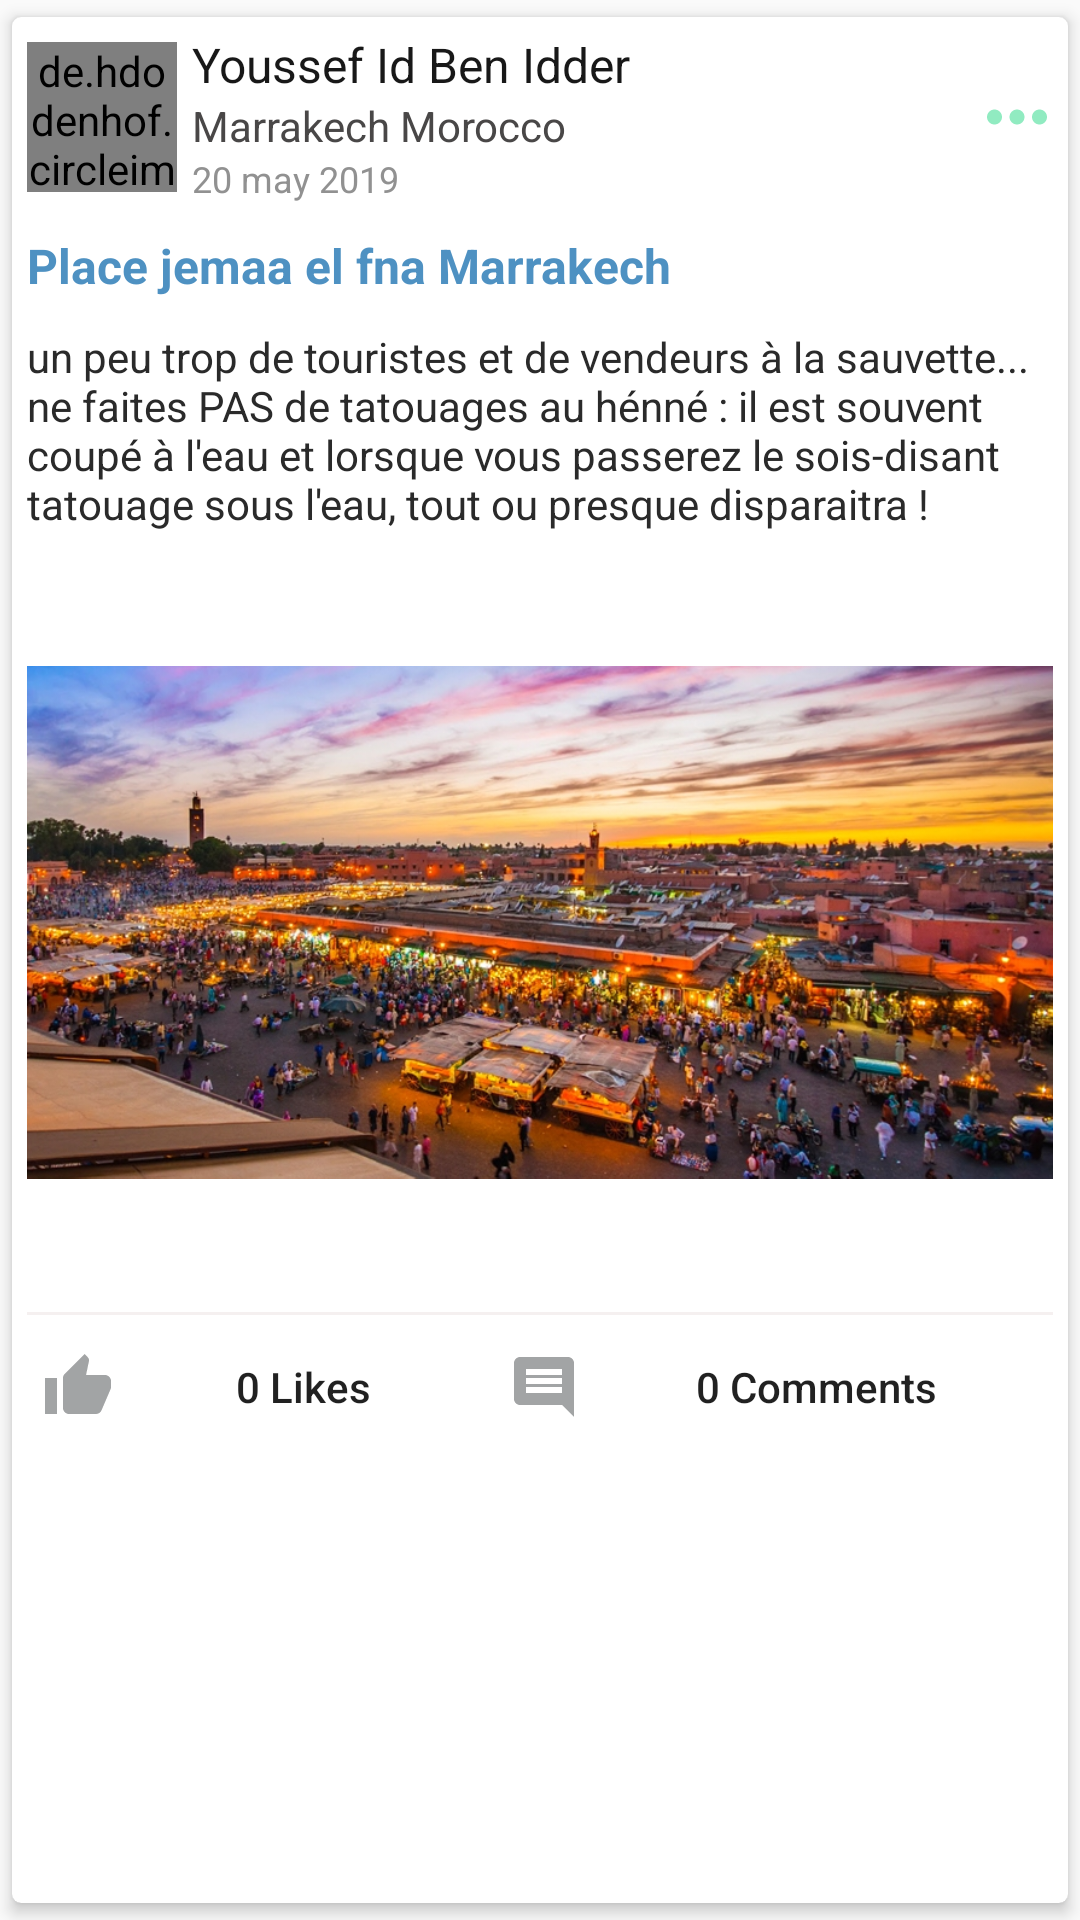

Locate icon controls on the screen. Image size 1080px x 1920px, boxes as (x1, y1, x2, y2).
more: (987, 109, 1047, 125)
